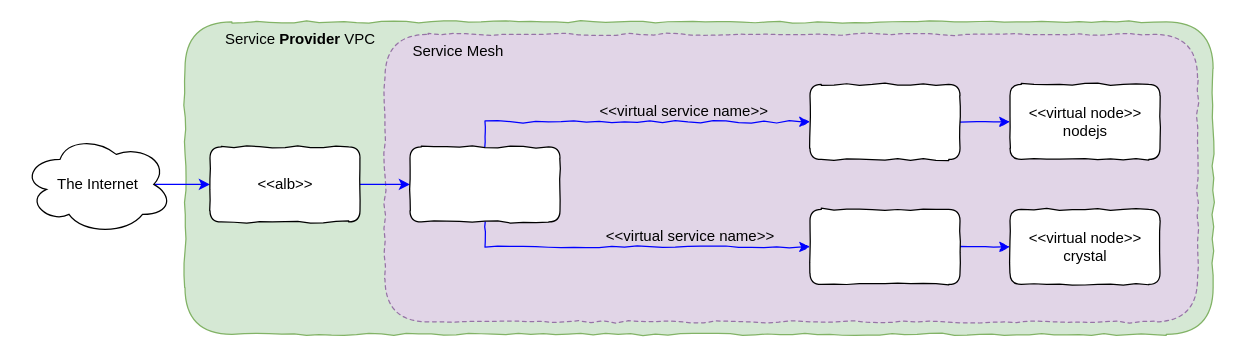
Some shapes in this 1235 by 356 pixel diagram are drawn without their labels. The shapes that lost their labels are listed below. From the top down, each one's box as (x1, y1, x2, y2) in pixels, then its label:
(809, 83, 960, 159): <<virtual router>> nodejs
(409, 146, 560, 222): <<virtual node>> Frontend
(809, 208, 960, 284): <<virtual router>> crystal
